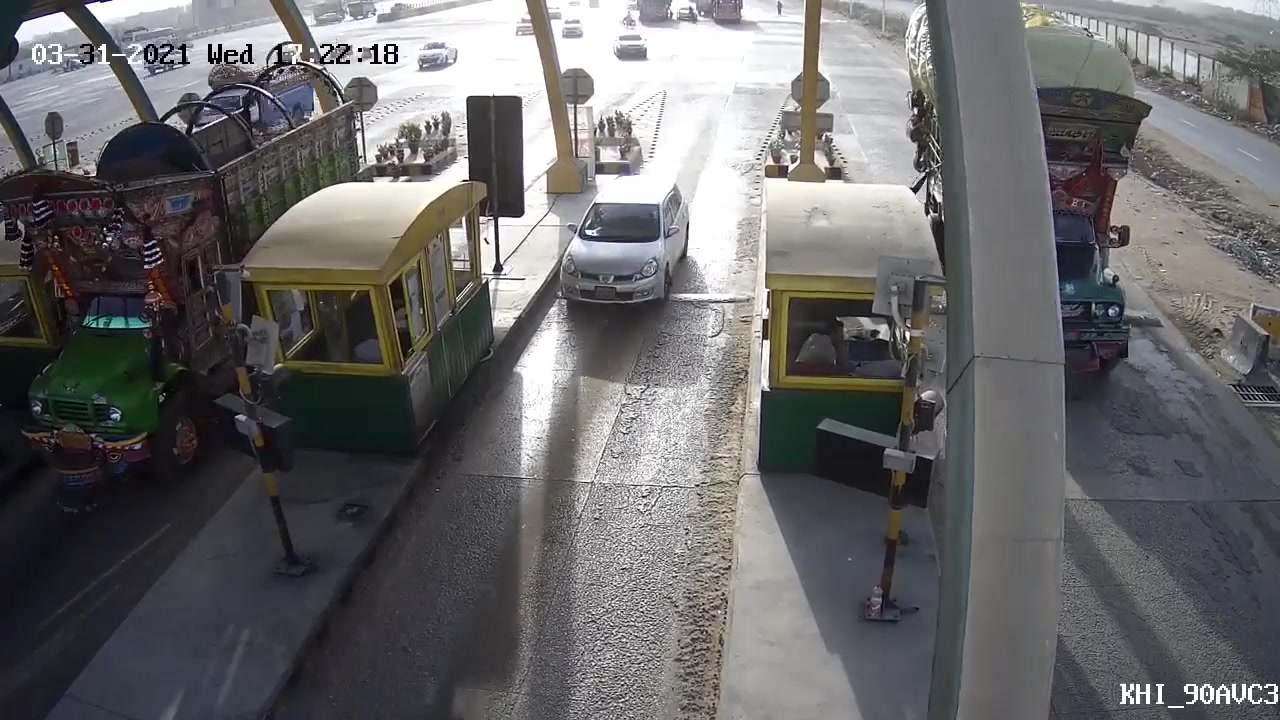F1: (542, 161, 700, 366)
